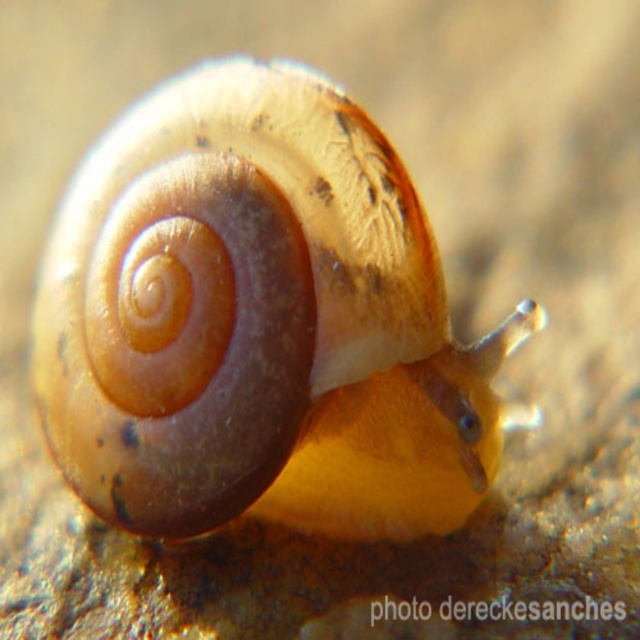Snail: (34, 54, 547, 544)
